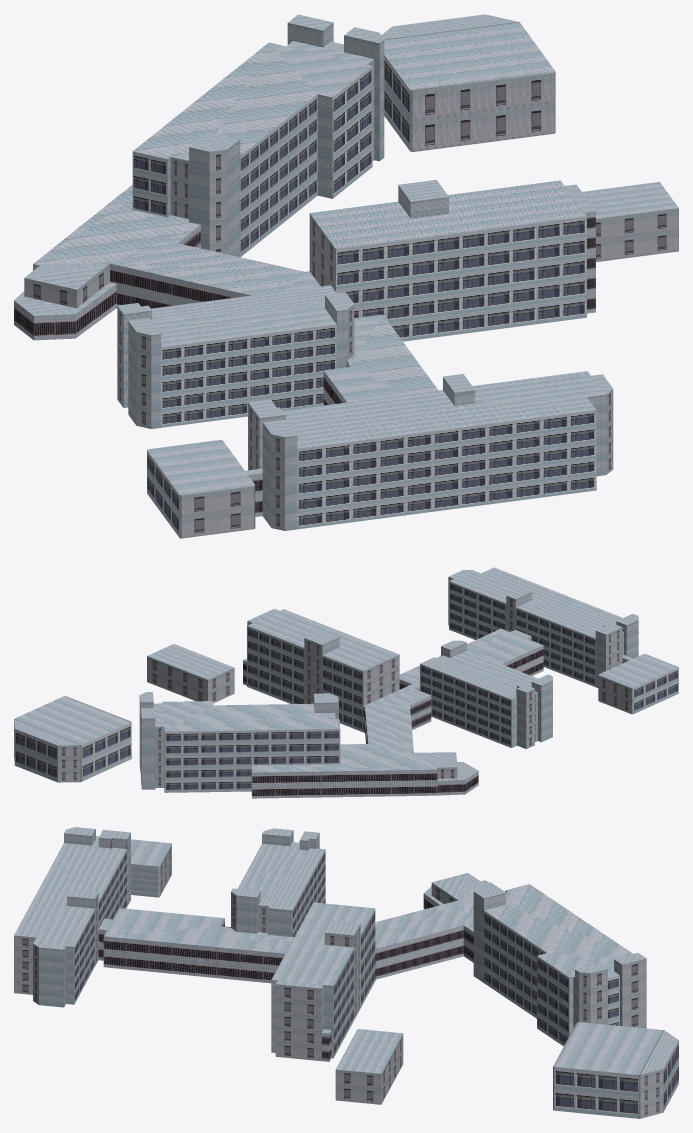
Rendered from Applied_Engineering_Building_Tool.obj.
3 renders of one model, top to bottom at view 1: azimuth 30°, elevation 25°; view 2: azimuth 150°, elevation 25°; view 3: azimuth 270°, elevation 25°, orthographic. The views are drawn at different scales.
Parts seen in each view (by area): view 1: VMtl1426, VMtl1424, VMtl1434, VMtl1431; view 2: VMtl1426, VMtl1424, VMtl1434, VMtl1431; view 3: VMtl1426, VMtl1424, VMtl1434, VMtl1431.
Part boxes in pixels (x1,y1,x2,y2): VMtl1426: (14, 14, 678, 538); VMtl1424: (132, 55, 596, 537); VMtl1434: (24, 59, 678, 538); VMtl1431: (14, 211, 595, 516); VMtl1426: (14, 567, 678, 794); VMtl1424: (15, 581, 678, 792); VMtl1434: (14, 577, 631, 788); VMtl1431: (243, 636, 628, 798); VMtl1426: (14, 827, 678, 1110); VMtl1424: (74, 849, 678, 1118); VMtl1434: (14, 844, 663, 1118); VMtl1431: (98, 844, 473, 1061).
Size of the model in its own units: 189 by 29.58 by 211.
5 materials, 4 textured.
